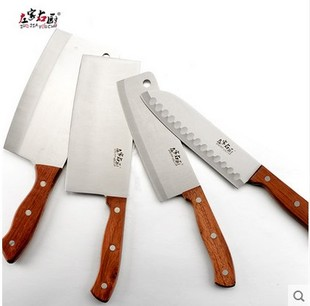knief: (113, 78, 310, 284)
